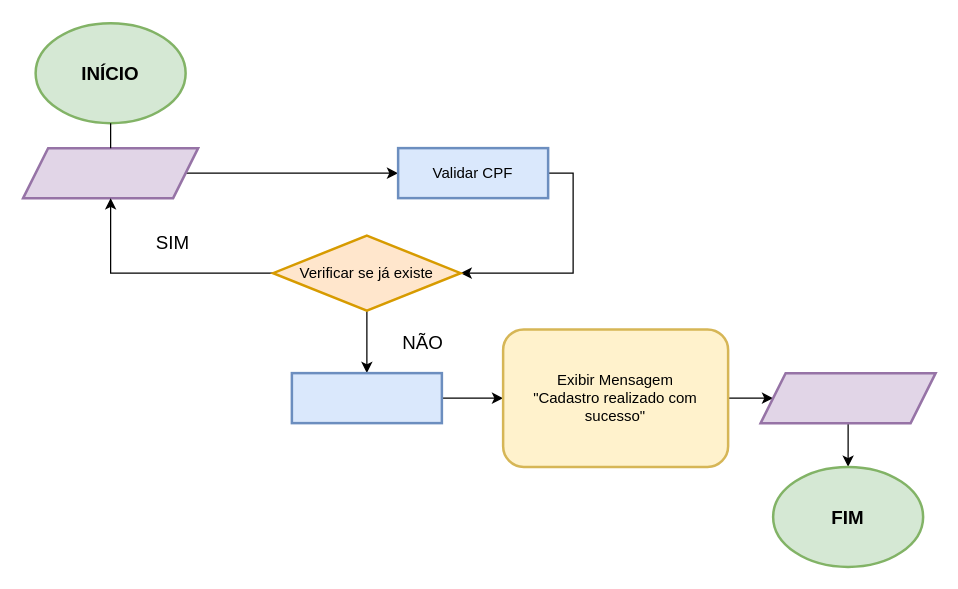
This 958x589 diagram has some shape labels left out. The box of each missing label's shape, as (x1, y1, x2, y2) in pixels:
Nome,CPF: (21, 146, 199, 199)
Salvar: (290, 371, 442, 424)
SAÍDA: (759, 371, 936, 424)
